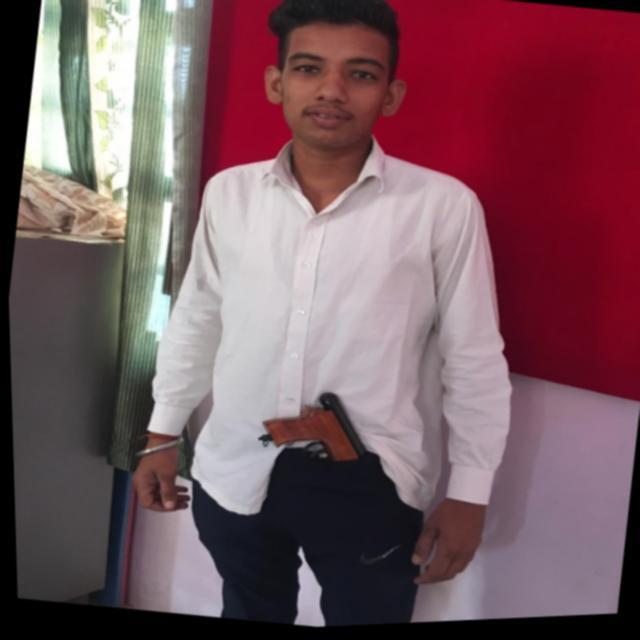weapon: (245, 381, 401, 514)
